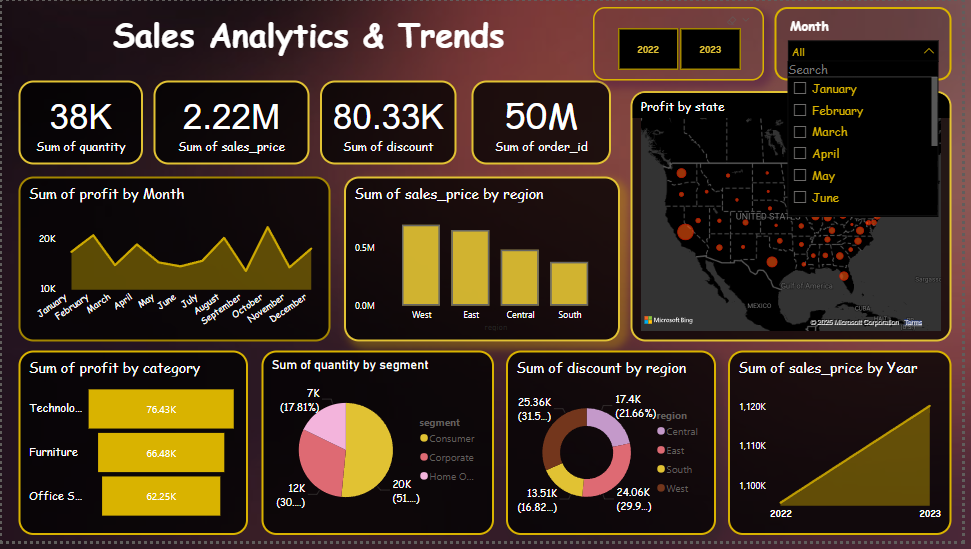

Layout of this report page (visuals, bound fields, positions):
{"tool":"powerbi","page":{"name":"Page 1","canvas":[1280,720],"ordinal":0},"visuals":[{"type":"card","fields":{"Values":["Sum(orders_modified.order_id)"]},"box":[626,106,186,112],"z":0},{"type":"clusteredColumnChart","fields":{"Category":["orders_modified.region"],"Y":["Sum(orders_modified.sales_price)"]},"box":[456,234,368,220],"z":1000},{"type":"areaChart","fields":{"Category":["orders_modified.order_date.Variation.Date Hierarchy.Year"],"Y":["Sum(orders_modified.sales_price)"]},"box":[968,466,298,246],"z":2000},{"type":"donutChart","fields":{"Y":["Sum(orders_modified.discount)"],"Series":["orders_modified.region"]},"box":[672,466,280,246],"z":3000},{"type":"funnel","fields":{"Category":["orders_modified.category"],"Y":["Sum(orders_modified.profit)"]},"box":[22,466,306,246],"z":4000},{"type":"lineStackedColumnComboChart","fields":{"Category":["orders_modified.order_date.Variation.Date Hierarchy.Month"],"Y2":["Sum(orders_modified.profit)"]},"box":[22,234,416,220],"z":5000},{"type":"map","title":"Profit by state","fields":{"Category":["orders_modified.state"],"Size":["Sum(orders_modified.profit)"]},"box":[838,120,428,334],"z":6000},{"type":"pieChart","fields":{"Category":["orders_modified.segment"],"Y":["Sum(orders_modified.quantity)"]},"box":[346,466,310,246],"z":7000},{"type":"slicer","fields":{"Values":["orders_modified.order_date.Variation.Date Hierarchy.Year"]},"box":[788,8,228,98],"z":8000},{"type":"card","fields":{"Values":["Sum(orders_modified.quantity)"]},"box":[22,106,166,112],"z":9000},{"type":"card","fields":{"Values":["Sum(orders_modified.discount)"]},"box":[424,106,182,112],"z":10000},{"type":"card","fields":{"Values":["Sum(orders_modified.sales_price)"]},"box":[202,106,208,112],"z":11000},{"type":"textbox","box":[86,8,664,128],"z":12000},{"type":"slicer","fields":{"Values":["orders_modified.order_date.Variation.Date Hierarchy.Month"]},"box":[1030,8,236,98],"z":13000}]}

Visuals, with their boxes in screenshot pixels (x1, y1, x2, y2), scaled from the page's 1280x720 canvas onto the 971x549 screenshot:
card - Sum(orders_modified.order_id): 475, 81, 616, 166
clusteredColumnChart - orders_modified.region x Sum(orders_modified.sales_price): 346, 178, 625, 346
areaChart - orders_modified.order_date.Variation.Date Hierarchy.Year x Sum(orders_modified.sales_price): 734, 355, 960, 543
donutChart - Sum(orders_modified.discount) x orders_modified.region: 510, 355, 722, 543
funnel - orders_modified.category x Sum(orders_modified.profit): 17, 355, 249, 543
lineStackedColumnComboChart - orders_modified.order_date.Variation.Date Hierarchy.Month x Sum(orders_modified.profit): 17, 178, 332, 346
"Profit by state" map: 636, 92, 960, 346
pieChart - orders_modified.segment x Sum(orders_modified.quantity): 262, 355, 498, 543
slicer - orders_modified.order_date.Variation.Date Hierarchy.Year: 598, 6, 771, 81
card - Sum(orders_modified.quantity): 17, 81, 143, 166
card - Sum(orders_modified.discount): 322, 81, 460, 166
card - Sum(orders_modified.sales_price): 153, 81, 311, 166
textbox: 65, 6, 569, 104
slicer - orders_modified.order_date.Variation.Date Hierarchy.Month: 781, 6, 960, 81
